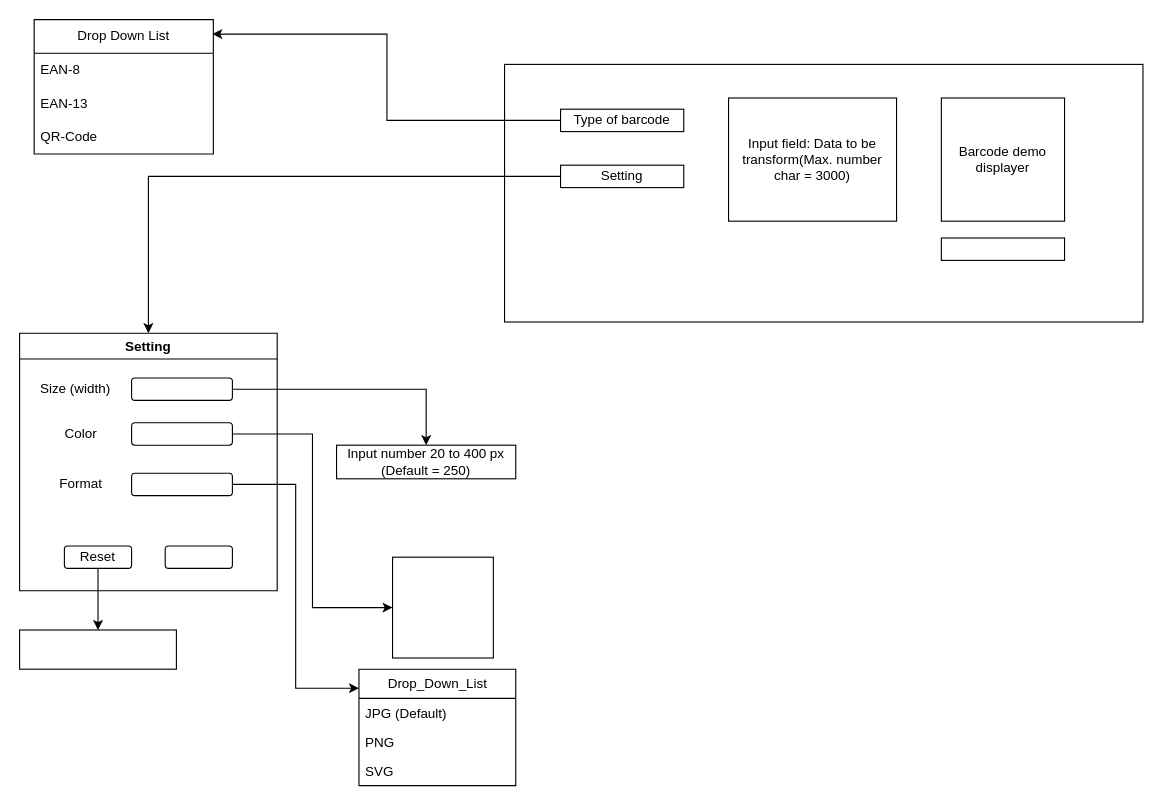
Some shapes in this 1163 by 809 pixel diagram are drawn without their labels. The shapes that lost their labels are listed below. From the top down, each one's centre as x and y in pixels, then its label:
At [1002,248]: "Download Button".
At [198,556]: "Close".
At [442,607]: "Color Palette (Default = black)".
At [97,649]: "Set all setting to default value".
